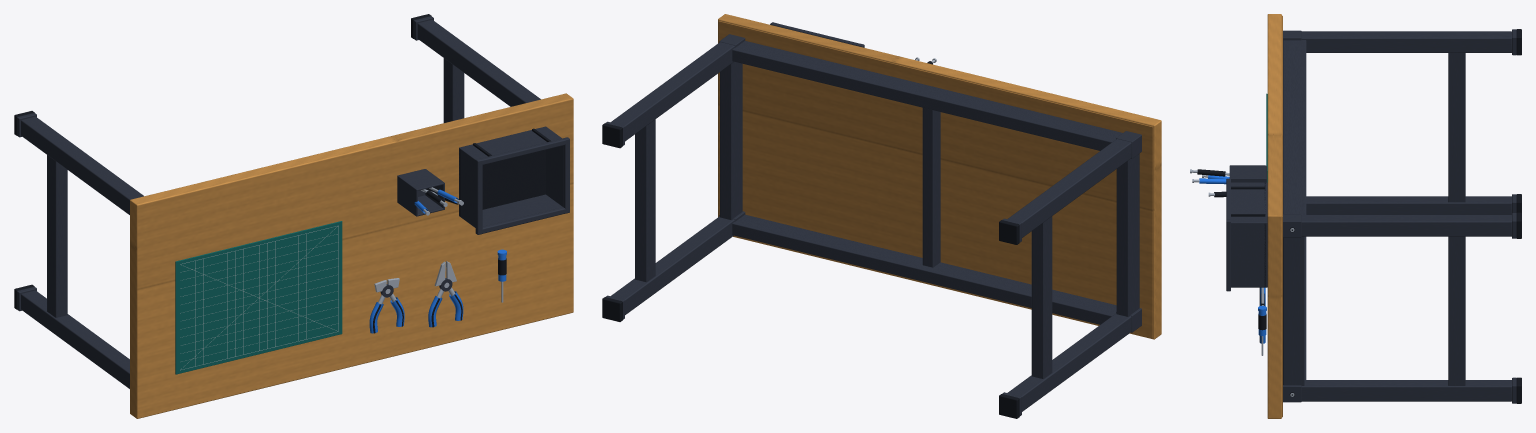
File: workbench.glb
The picture shows the model from 3 angles, left to right: view 1: azimuth 30°, elevation 25°; view 2: azimuth 150°, elevation 25°; view 3: azimuth 270°, elevation 25°; orthographic projection. The views are drawn at different scales.
Parts seen in each view (by area): view 1: Shelf_Workbench_Top_Wood, Decor_CuttingMat_Base, Leg_Workbench_01, Frame_Workbench_LowerSideRail0, Leg_Workbench_11, Leg_Workbench_00, Decor_PartsTray_Floor, Decor_CuttingMat_Grid, Decor_PartsTray_FrontBack1, Decor_PartsTray_FrontBack-1, Frame_Workbench_LowerSideRail1, Decor_PartsTray_Side-1 (+6 smaller); view 2: Shelf_Workbench_Top_Underlip, Frame_Workbench_LongApron1, Frame_Workbench_LongApron0, Shelf_Workbench_Top_Wood, Frame_Workbench_UpperSideRail0, Frame_Workbench_UpperSideRail1, Frame_Workbench_LowerSideRail0, Leg_Workbench_01, Leg_Workbench_11, Frame_Workbench_LowerSideRail1, Leg_Workbench_00, Leg_Workbench_10 (+1 smaller); view 3: Shelf_Workbench_Top_Wood, Leg_Workbench_11, Leg_Workbench_01, Leg_Workbench_10, Frame_Workbench_LongApron1, Leg_Workbench_00, Frame_Workbench_UpperSideRail1, Frame_Workbench_LowerSideRail0, Frame_Workbench_LowerSideRail1, Decor_PartsTray_Side1, Decor_PartsTray_FrontBack1, Frame_Workbench_11_CornerCollar (+5 smaller).
Part boxes in pixels (x1,y1,x2,y2): Shelf_Workbench_Top_Wood: (130, 93, 573, 418); Decor_CuttingMat_Base: (175, 221, 342, 374); Leg_Workbench_01: (21, 116, 143, 214); Frame_Workbench_LowerSideRail0: (47, 155, 67, 317); Leg_Workbench_11: (417, 20, 540, 106); Leg_Workbench_00: (21, 290, 129, 388); Decor_PartsTray_Floor: (459, 149, 545, 215); Decor_CuttingMat_Grid: (180, 225, 338, 370); Decor_PartsTray_FrontBack1: (459, 126, 561, 160); Decor_PartsTray_FrontBack-1: (459, 194, 562, 227); Frame_Workbench_LowerSideRail1: (443, 58, 464, 122); Decor_PartsTray_Side-1: (459, 147, 476, 226); Shelf_Workbench_Top_Underlip: (718, 21, 1153, 338); Frame_Workbench_LongApron1: (732, 41, 1122, 150); Frame_Workbench_LongApron0: (732, 214, 1116, 324); Shelf_Workbench_Top_Wood: (718, 14, 1161, 339); Frame_Workbench_UpperSideRail0: (1116, 153, 1139, 316); Frame_Workbench_UpperSideRail1: (720, 62, 742, 219); Frame_Workbench_LowerSideRail0: (1031, 216, 1052, 378); Leg_Workbench_01: (1007, 139, 1131, 237); Leg_Workbench_11: (611, 42, 734, 141); Frame_Workbench_LowerSideRail1: (635, 119, 655, 282); Leg_Workbench_00: (1007, 313, 1131, 411); Leg_Workbench_10: (611, 216, 734, 314); Shelf_Workbench_Top_Wood: (1267, 14, 1281, 418); Leg_Workbench_11: (1301, 215, 1511, 236); Leg_Workbench_01: (1301, 31, 1511, 52); Leg_Workbench_10: (1301, 380, 1511, 401); Frame_Workbench_LongApron1: (1283, 40, 1306, 214); Leg_Workbench_00: (1306, 196, 1511, 214); Frame_Workbench_UpperSideRail1: (1283, 236, 1304, 385); Frame_Workbench_LowerSideRail0: (1448, 53, 1465, 202); Frame_Workbench_LowerSideRail1: (1448, 236, 1465, 385); Decor_PartsTray_Side1: (1231, 222, 1267, 287); Decor_PartsTray_FrontBack1: (1231, 182, 1267, 224); Frame_Workbench_11_CornerCollar: (1283, 214, 1301, 237).
Size of the model in its own units: 1.6 by 0.75 by 1.11.
Materials: 8 (5 with a texture image).
